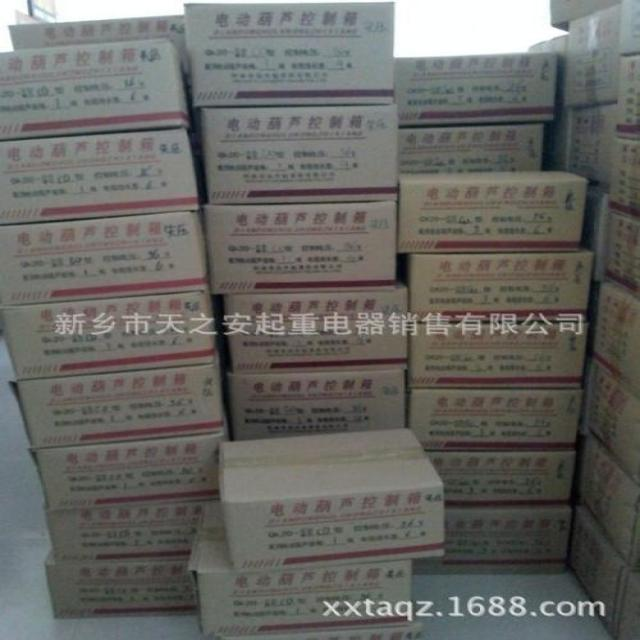box: (218, 427, 448, 574), (189, 501, 412, 638), (184, 2, 394, 107), (198, 103, 401, 204), (0, 212, 210, 307), (0, 39, 196, 139), (0, 128, 201, 225), (1, 293, 215, 380), (204, 201, 399, 296), (14, 363, 225, 450), (225, 281, 410, 373), (396, 171, 591, 254), (33, 435, 224, 510), (410, 251, 594, 324), (229, 370, 408, 440), (394, 52, 556, 128), (408, 321, 588, 389), (412, 504, 575, 574), (408, 388, 586, 450), (45, 551, 198, 620), (575, 424, 640, 578), (44, 501, 206, 561), (568, 506, 640, 640), (426, 450, 579, 504), (8, 15, 187, 56), (399, 125, 543, 175), (582, 361, 639, 482), (562, 6, 622, 108), (588, 281, 640, 397), (566, 103, 617, 195), (603, 211, 640, 298), (609, 139, 640, 221), (613, 54, 640, 139)
